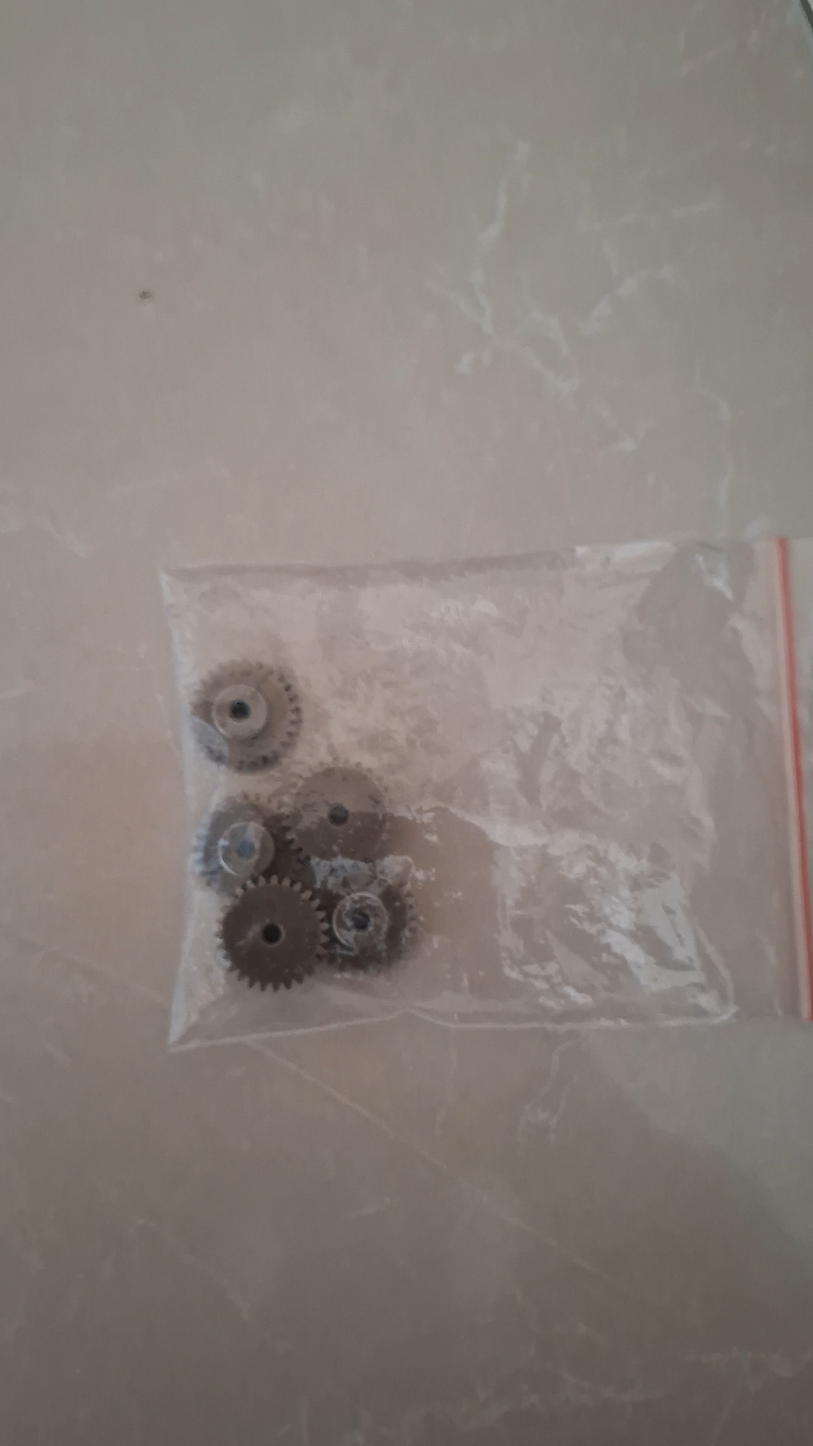spur gear: (220, 876, 328, 990), (191, 662, 301, 771), (288, 767, 388, 860), (193, 797, 276, 891), (330, 879, 417, 967)
